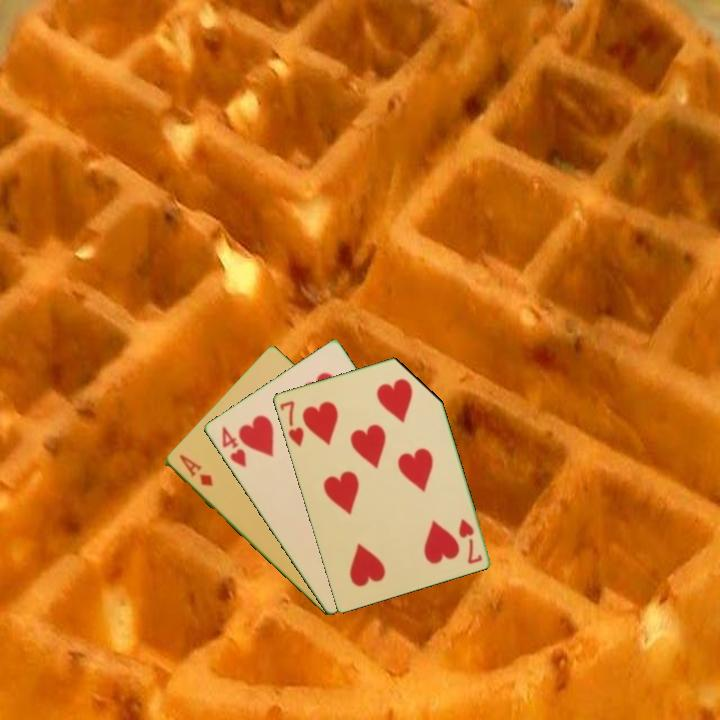4h: (218, 422, 249, 471)
7h: (276, 397, 306, 449), (455, 515, 485, 567)
Ad: (175, 450, 216, 490)
